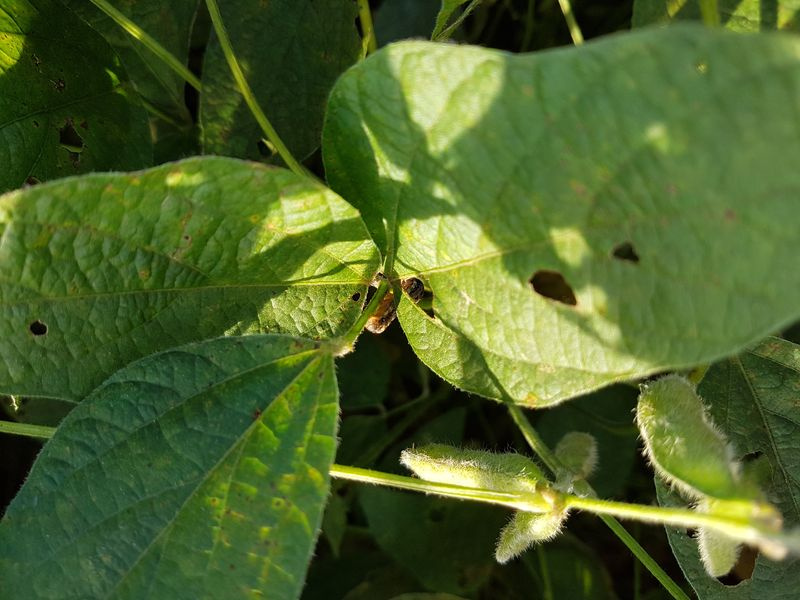Spodoptera_albula: (355, 261, 439, 342)
